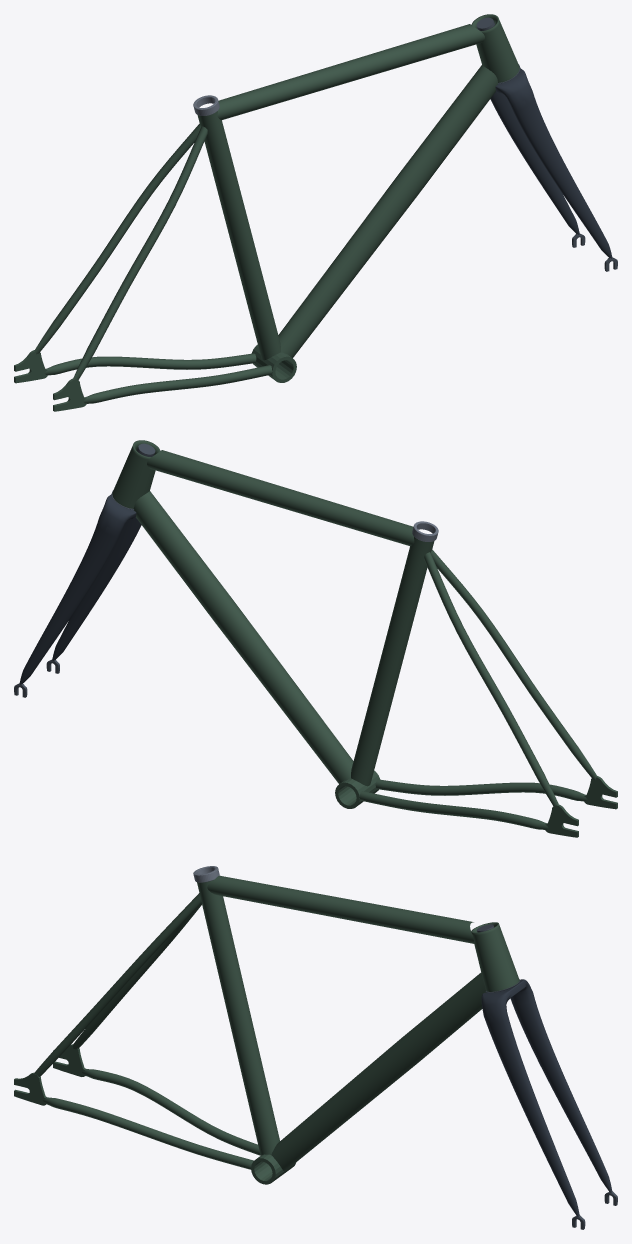
File: skream-ranger-xs.glb
The picture shows the model from 3 angles, top to bottom: view 1: azimuth 30°, elevation 25°; view 2: azimuth 150°, elevation 25°; view 3: azimuth 330°, elevation 25°; orthographic projection.
Visible parts, largest first — view 1: paint_down, paint_top, paint_seat, fork_blade_1, paint_seatstay_1, paint_seatstay_-1, fork_blade_-1, paint_chainstay_-1, paint_chainstay_1, paint_head, paint_bottom_bracket, fork_crown (+2 smaller); view 2: paint_down, paint_top, paint_seat, fork_blade_-1, paint_seatstay_-1, paint_seatstay_1, fork_blade_1, paint_chainstay_1, paint_chainstay_-1, paint_head, paint_bottom_bracket, fork_crown (+2 smaller); view 3: paint_down, paint_seat, paint_top, fork_blade_1, fork_blade_-1, paint_chainstay_1, paint_seatstay_1, paint_head, paint_chainstay_-1, paint_seatstay_-1, fork_crown, paint_bottom_bracket (+2 smaller).
Boxes of the visible parts, x1,y1,x2,y2 form: paint_down: (278, 65, 497, 357); paint_top: (217, 24, 484, 119); paint_seat: (197, 111, 280, 360); fork_blade_1: (510, 93, 612, 258); paint_seatstay_1: (73, 126, 207, 379); paint_seatstay_-1: (34, 123, 201, 354); fork_blade_-1: (490, 91, 579, 234); paint_chainstay_-1: (44, 353, 256, 375); paint_chainstay_1: (83, 365, 272, 403); paint_head: (471, 14, 519, 82); paint_bottom_bracket: (251, 344, 296, 382); fork_crown: (495, 68, 532, 104); paint_down: (134, 491, 353, 783); paint_top: (147, 450, 414, 545); paint_seat: (351, 537, 434, 786); fork_blade_-1: (19, 519, 121, 684); paint_seatstay_-1: (424, 552, 558, 805); paint_seatstay_1: (430, 549, 597, 780); fork_blade_1: (52, 517, 141, 660); paint_chainstay_1: (375, 779, 587, 801); paint_chainstay_-1: (359, 791, 548, 829); paint_head: (112, 440, 160, 508); paint_bottom_bracket: (335, 770, 380, 808); fork_crown: (99, 494, 136, 530); paint_down: (271, 972, 486, 1171); paint_seat: (197, 881, 279, 1155); paint_top: (207, 875, 474, 943); fork_blade_1: (484, 1012, 579, 1216); fork_blade_-1: (510, 993, 612, 1192); paint_chainstay_1: (43, 1097, 253, 1169); paint_seatstay_1: (34, 893, 201, 1076); paint_head: (471, 922, 519, 991); paint_chainstay_-1: (82, 1068, 260, 1155); paint_seatstay_-1: (73, 903, 201, 1049); fork_crown: (481, 979, 532, 1016); paint_bottom_bracket: (251, 1154, 296, 1184).
Bounding box in the file's own units: 1.05 × 0.5406 × 0.1434.
